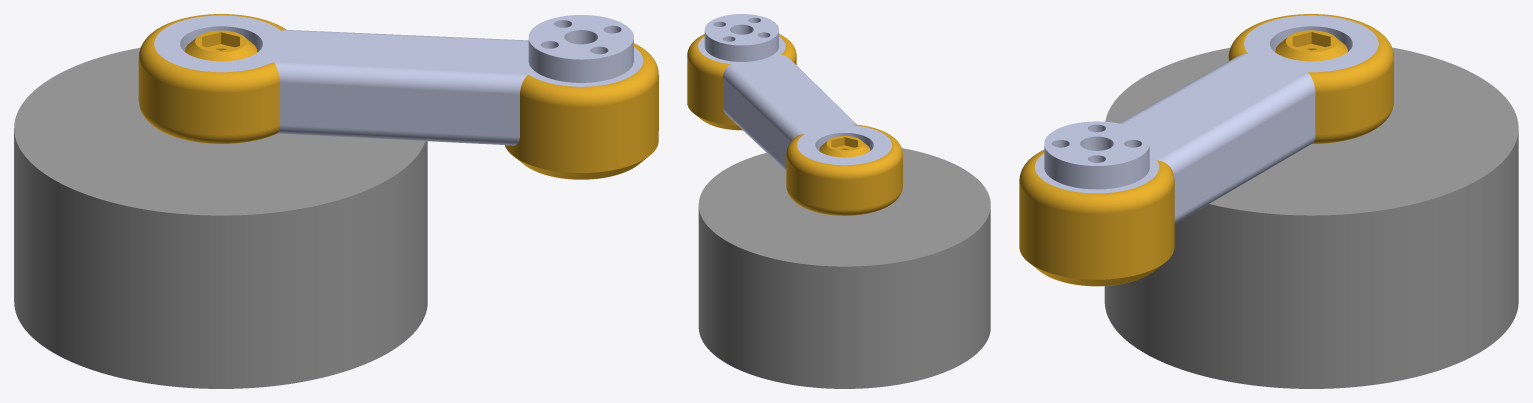
The model's file is qB-FrontLeg-Right.obj.
The picture shows the model from 3 angles, left to right: view 1: azimuth 30°, elevation 25°; view 2: azimuth 150°, elevation 25°; view 3: azimuth 270°, elevation 25°; orthographic projection. The views are drawn at different scales.
Parts seen in each view (by area): view 1: Body5, Leg-Front, LegCap, WheelHubOuter; view 2: Body5, Leg-Front, WheelHubOuter, LegCap; view 3: Body5, Leg-Front, LegCap, WheelHubOuter.
Part boxes in pixels (<box>): Body5: <box>14,47,427,388</box>; Leg-Front: <box>138,14,658,163</box>; LegCap: <box>504,134,658,179</box>; WheelHubOuter: <box>184,30,257,61</box>; Body5: <box>698,148,990,388</box>; Leg-Front: <box>687,14,902,215</box>; WheelHubOuter: <box>819,136,870,157</box>; LegCap: <box>687,98,742,130</box>; Body5: <box>1104,47,1518,388</box>; Leg-Front: <box>1019,14,1393,270</box>; LegCap: <box>1019,239,1174,286</box>; WheelHubOuter: <box>1275,30,1347,61</box>.
Size of the model in its own units: 112 by 60 by 96.5.
